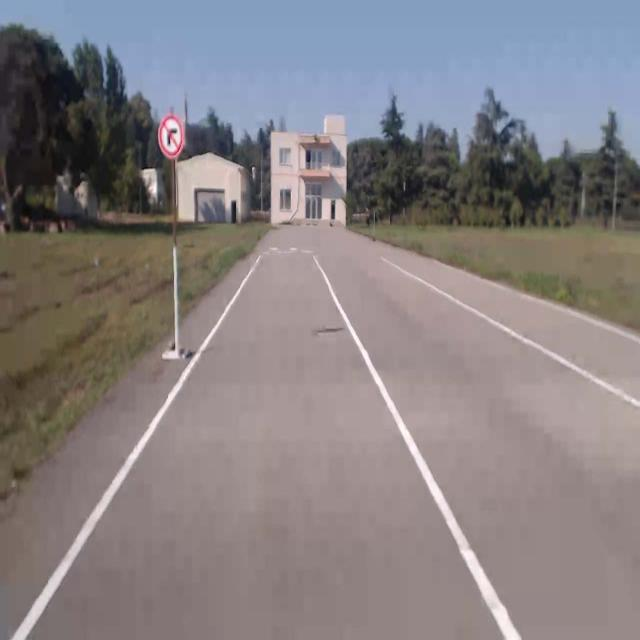sagadonulmez: (158, 112, 182, 156)
